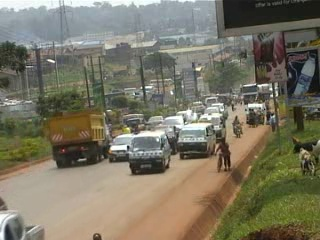Car: (148, 122, 183, 154), (106, 130, 138, 163), (157, 115, 190, 134), (206, 99, 230, 121), (143, 112, 168, 133), (175, 108, 201, 126), (123, 118, 148, 135), (202, 106, 223, 122)
Motorcycle: (228, 112, 243, 137)
